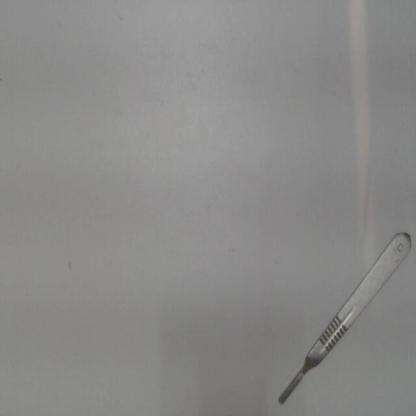No.4 BP Handle: (270, 221, 412, 414)
